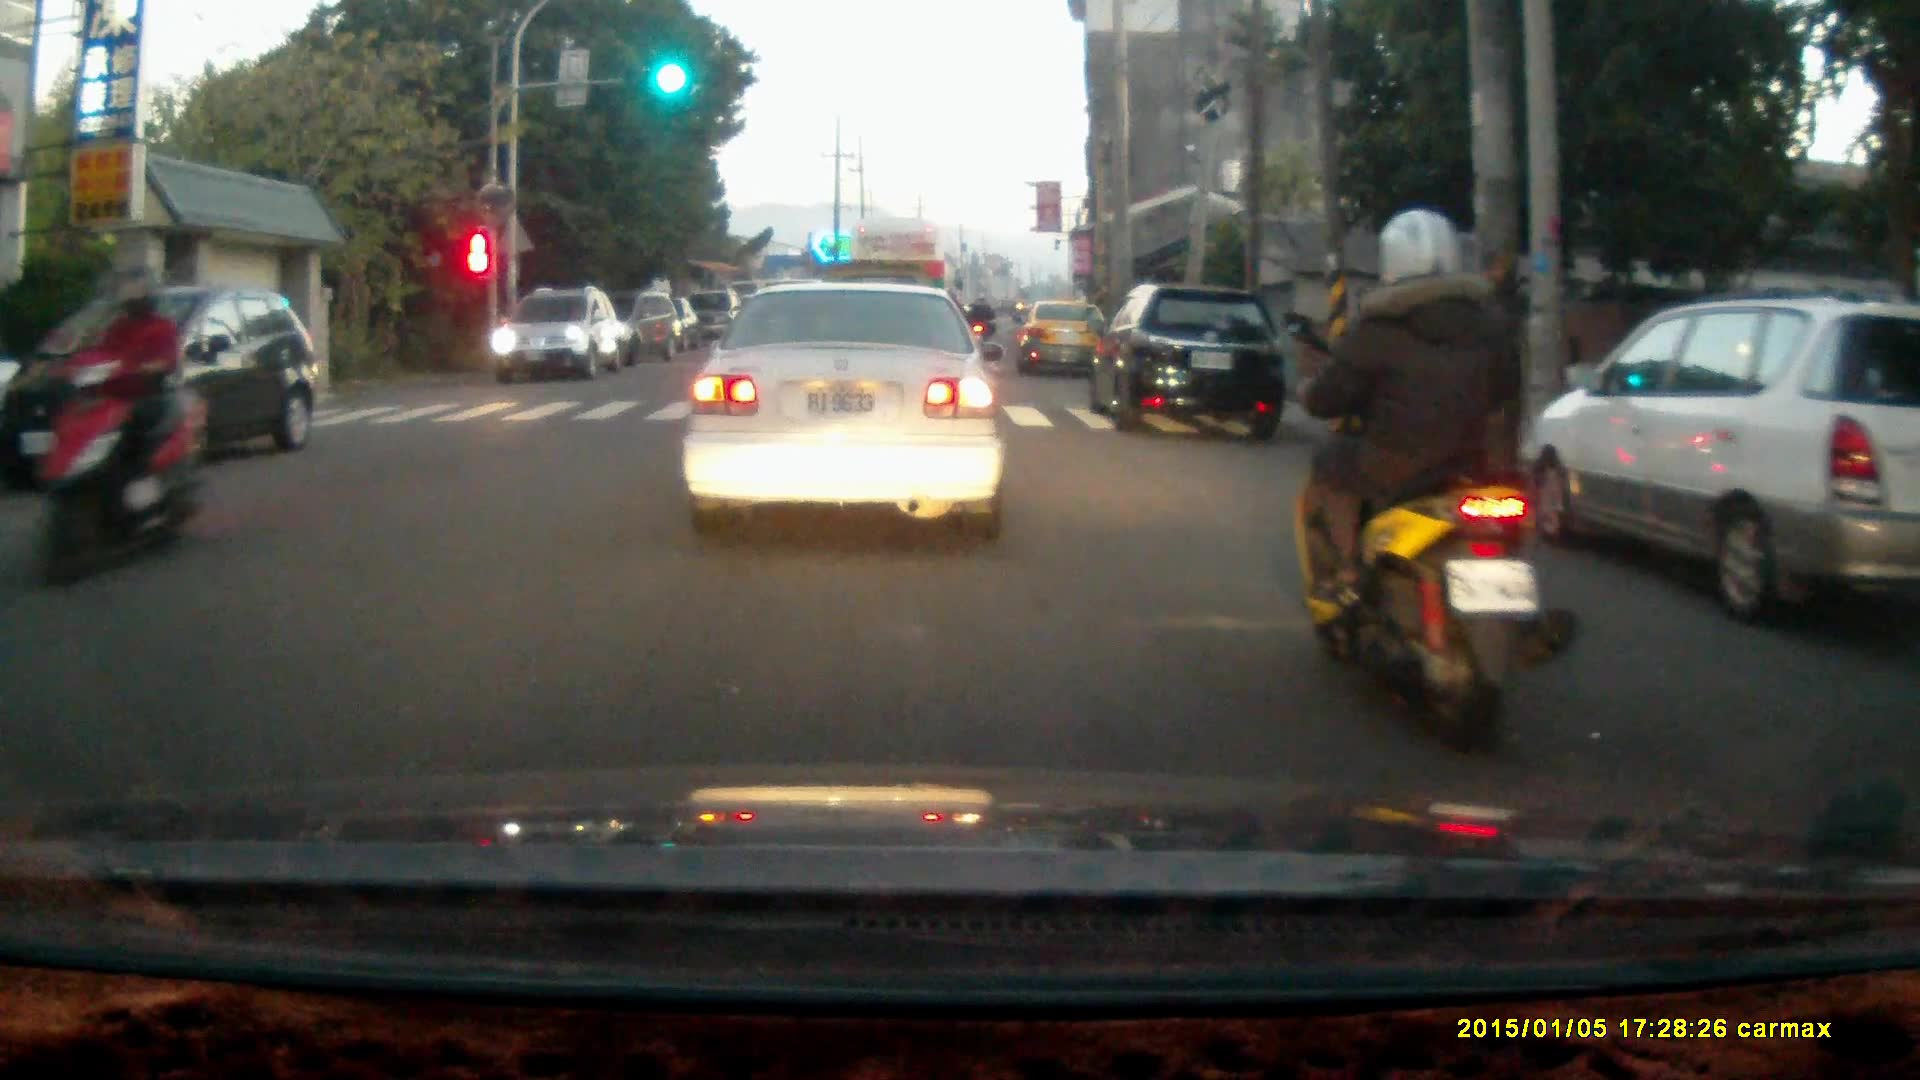rider: (1278, 209, 1586, 749), (27, 261, 206, 591)
vehicle: (1527, 297, 1920, 624), (683, 274, 1006, 539), (1, 282, 321, 498), (1088, 277, 1284, 432), (839, 215, 955, 363), (490, 292, 624, 385), (562, 285, 683, 366), (1016, 297, 1116, 381)
